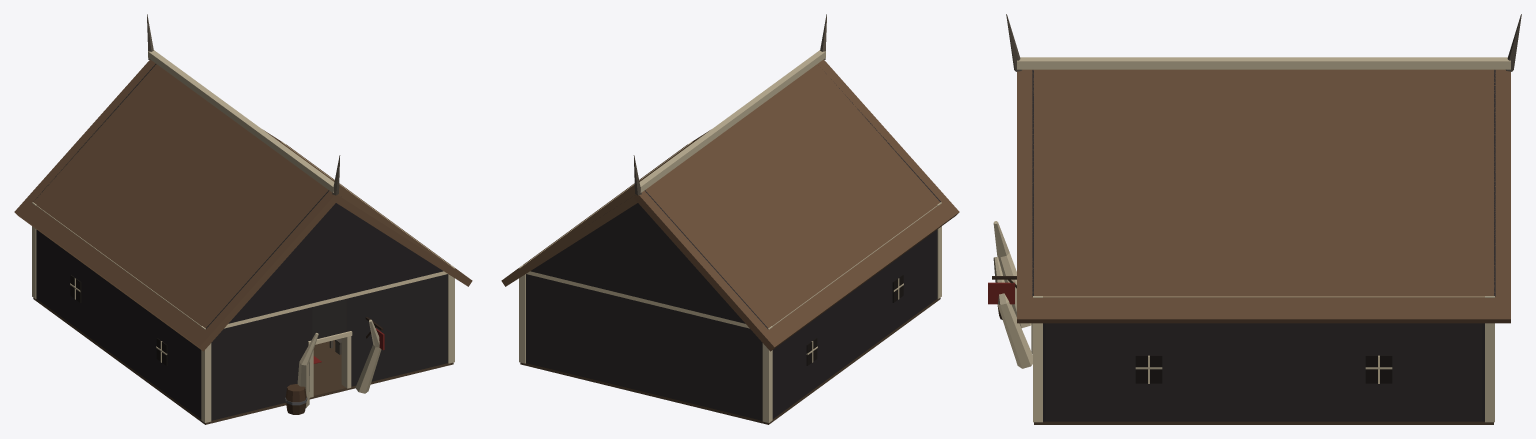
The model's file is walk_ashen_tavern.glb.
The picture shows the model from 3 angles, left to right: view 1: azimuth 30°, elevation 25°; view 2: azimuth 150°, elevation 25°; view 3: azimuth 270°, elevation 25°; orthographic projection. The views are drawn at different scales.
Parts seen in each view (by area): view 1: walk_ashen_tavern_roof, walk_ashen_tavern; view 2: walk_ashen_tavern_roof, walk_ashen_tavern; view 3: walk_ashen_tavern_roof, walk_ashen_tavern.
Boxes of the visible parts, left/top/right/bottom form: walk_ashen_tavern_roof: left=14, top=14, right=472, bottom=351; walk_ashen_tavern: left=32, top=141, right=454, bottom=424; walk_ashen_tavern_roof: left=501, top=14, right=959, bottom=351; walk_ashen_tavern: left=519, top=141, right=941, bottom=424; walk_ashen_tavern_roof: left=1006, top=14, right=1521, bottom=323; walk_ashen_tavern: left=988, top=221, right=1494, bottom=424.
Size of what is drawn, in the model's own units: 11 by 9.57 by 13.93.
2 materials, 2 textured.
